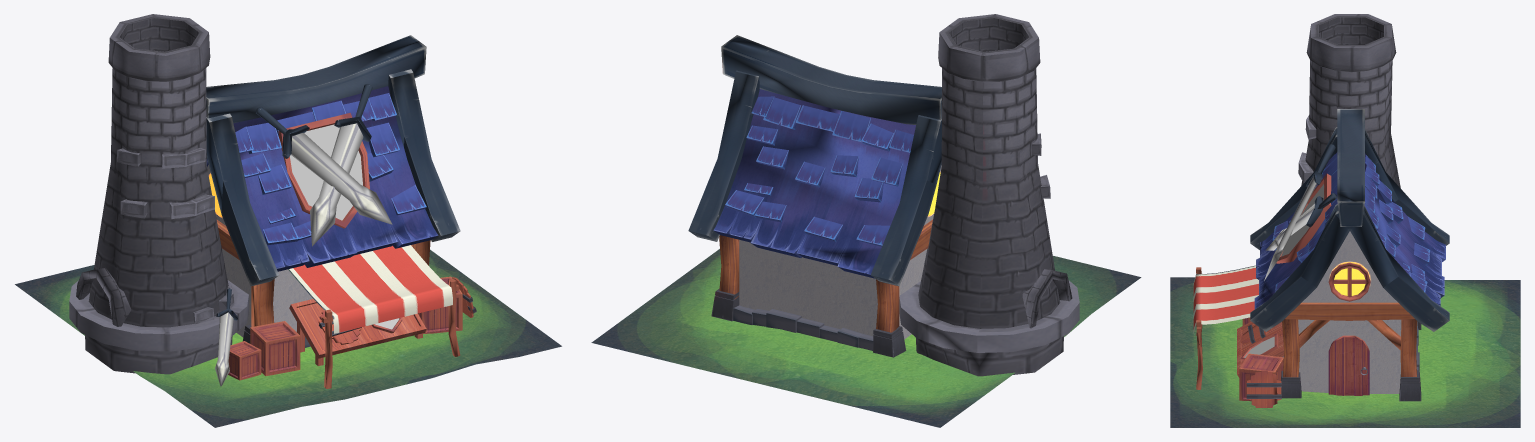
The model's file is shop.glb.
3 views of the same model, side by side, from view 1: azimuth 30°, elevation 25°; view 2: azimuth 150°, elevation 25°; view 3: azimuth 270°, elevation 25° (orthographic). The views are drawn at different scales.
Parts seen in each view (by area): view 1: pCube10; view 2: pCube10; view 3: pCube10.
Part boxes in pixels (x1,y1,x2,y2): pCube10: (15,14,561,427); pCube10: (591,14,1141,427); pCube10: (1170,14,1520,427).
Bounding box in the file's own units: 23.79 × 18.87 × 21.86.
Materials: 1 (1 with a texture image).
